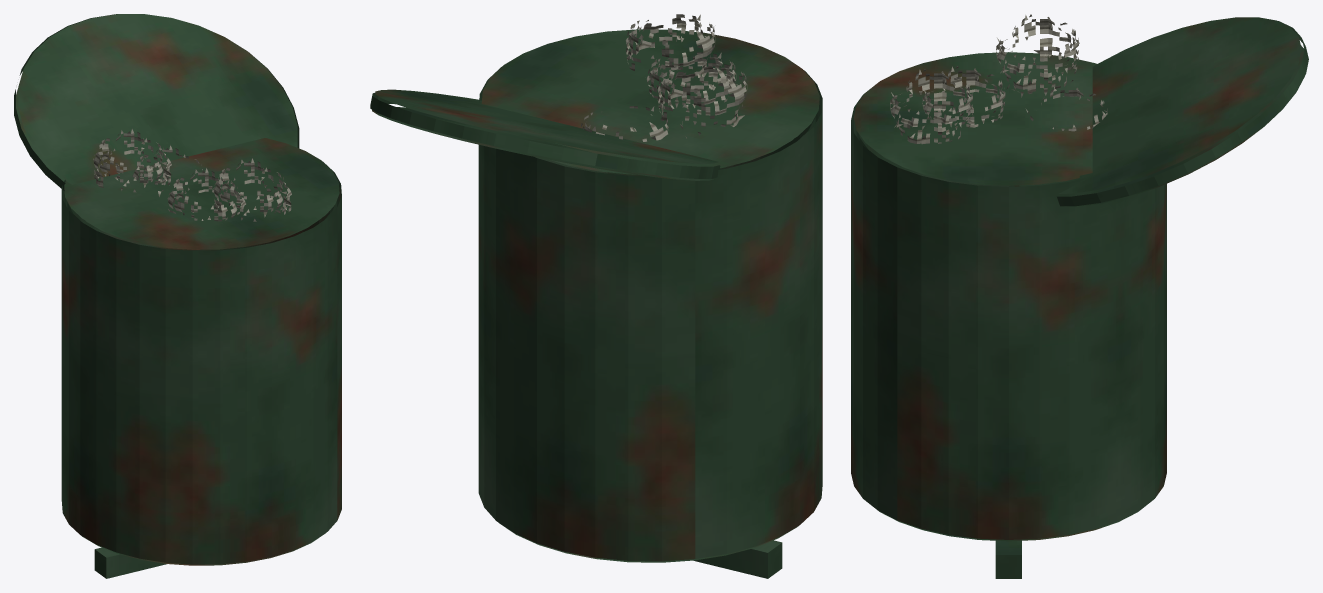
The model's file is R14_StreetDustbin.glb.
3 views of the same model, side by side, from view 1: azimuth 30°, elevation 25°; view 2: azimuth 150°, elevation 25°; view 3: azimuth 270°, elevation 25° (orthographic). The views are drawn at different scales.
Parts seen in each view (by area): view 1: R14_StreetDustbin; view 2: R14_StreetDustbin; view 3: R14_StreetDustbin.
Boxes of the visible parts, x1,y1,x2,y2 form: R14_StreetDustbin: [14, 14, 341, 578]; R14_StreetDustbin: [370, 14, 822, 578]; R14_StreetDustbin: [851, 14, 1308, 578].
Size of the model in its own units: 0.5136 by 0.8 by 0.6769.
2 materials, 2 textured.
